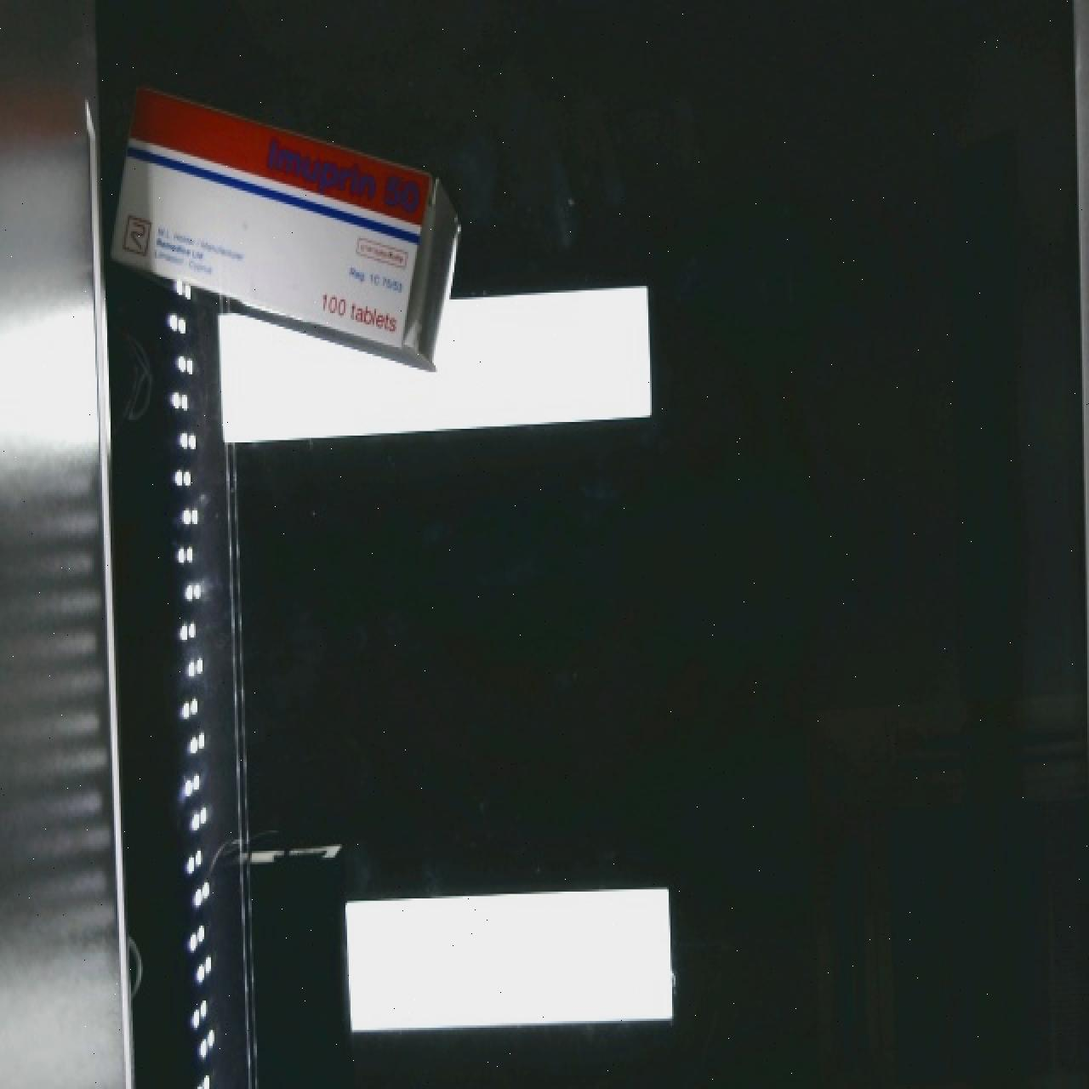medicine_label_obb: (238, 113, 445, 241)
